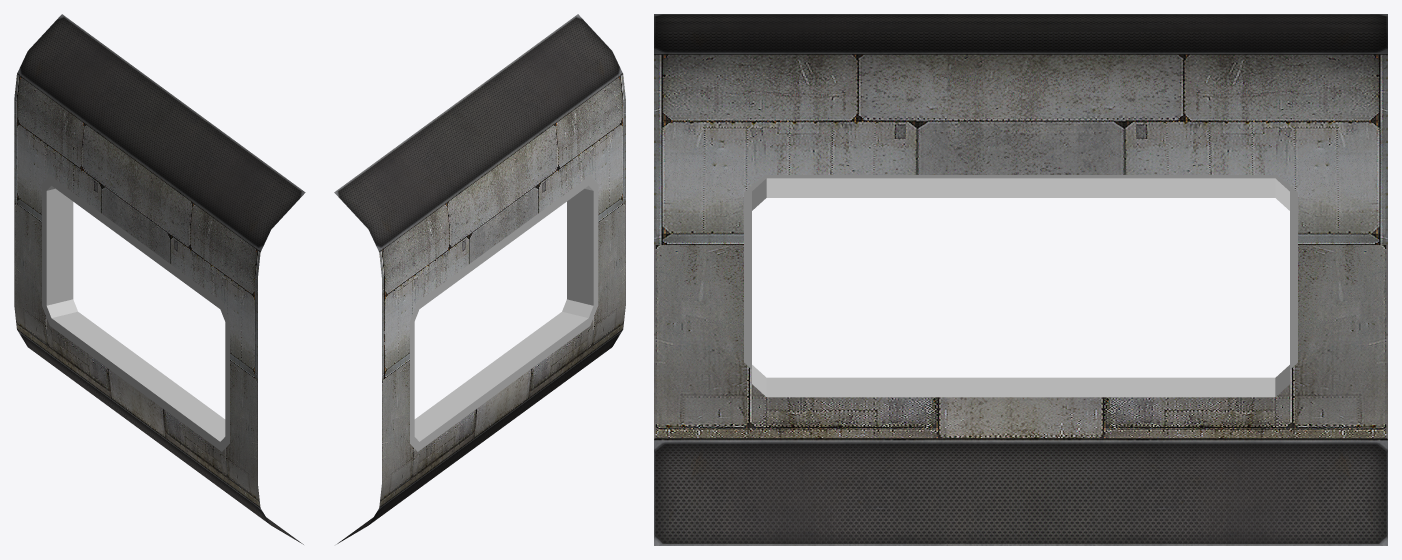
File: Wall_B_Mid4mts_11.fbx
3 views of the same model, side by side, from view 1: azimuth 30°, elevation 25°; view 2: azimuth 150°, elevation 25°; view 3: azimuth 270°, elevation 25° (orthographic). The views are drawn at different scales.
Visible parts, largest first — view 1: Wall_B_Mid4mts_11; view 2: Wall_B_Mid4mts_11; view 3: Wall_B_Mid4mts_11.
Boxes of the visible parts, bbox=[...] form: Wall_B_Mid4mts_11: bbox=[14, 14, 305, 544]; Wall_B_Mid4mts_11: bbox=[334, 14, 625, 544]; Wall_B_Mid4mts_11: bbox=[654, 14, 1387, 545].
Size of the model in its own units: 56.97 by 400 by 500.
